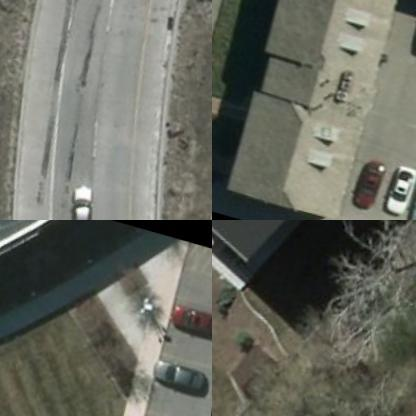car: (151, 351, 211, 394), (354, 154, 390, 210), (61, 177, 105, 219), (169, 293, 211, 333), (388, 160, 415, 215)
